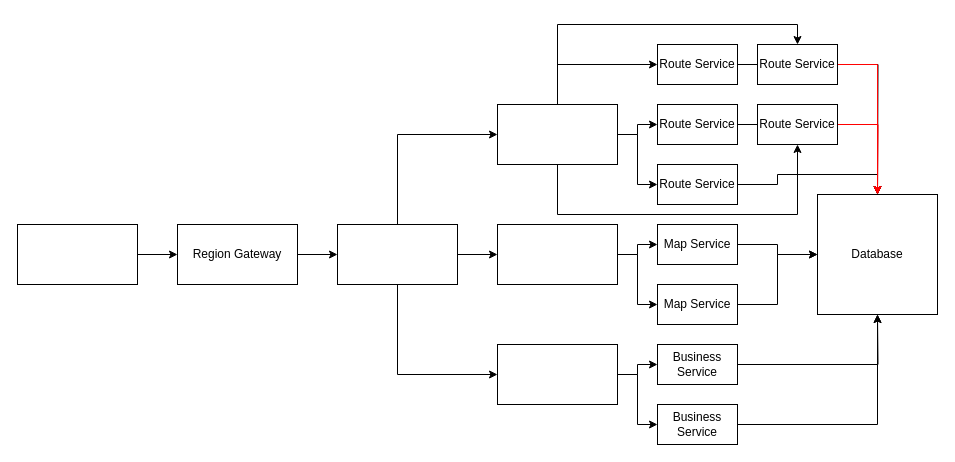
Some shapes in this 955 by 462 pixel diagram are drawn without their labels. Each missing label, with the centre of its shape:
"API Gateway" goes at [397,254].
"Business Service Load Balancer" goes at [557,374].
"CDN Interface" goes at [77,254].
"Map Service Load Balancer" goes at [557,254].
"Route Service Load Balancer" goes at [557,134].
